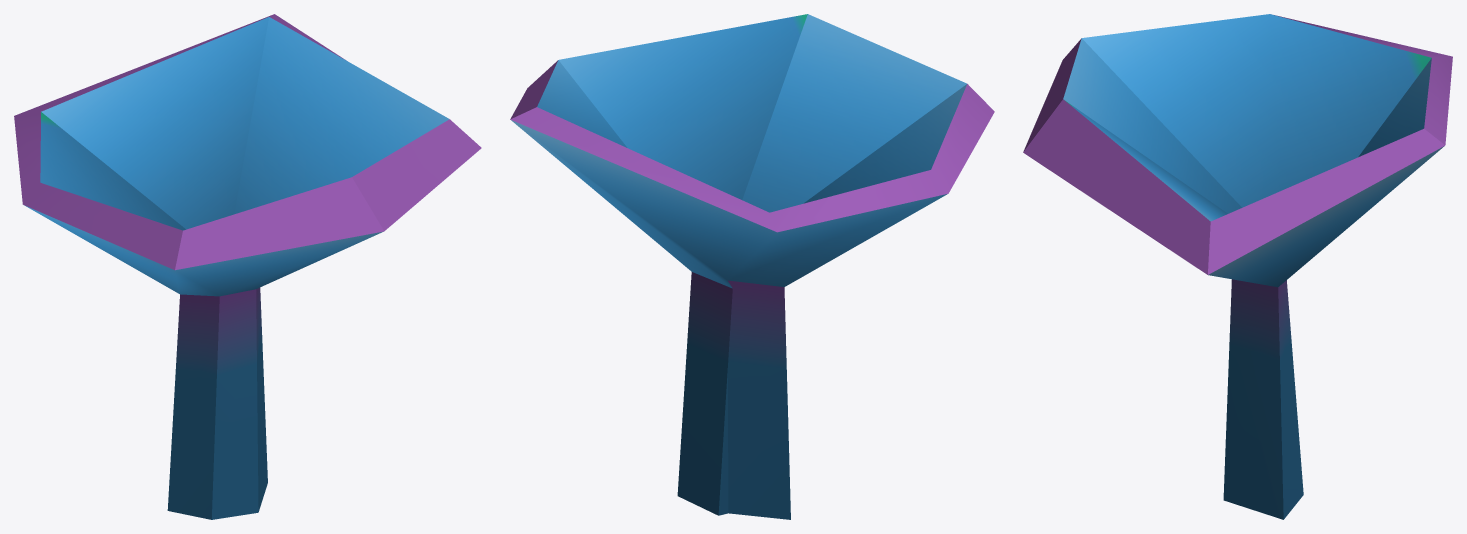
File: Mushroom_B_3.fbx
The picture shows the model from 3 angles, left to right: view 1: azimuth 30°, elevation 25°; view 2: azimuth 150°, elevation 25°; view 3: azimuth 270°, elevation 25°; orthographic projection. The views are drawn at different scales.
Parts seen in each view (by area): view 1: Mushroom_B_3; view 2: Mushroom_B_3; view 3: Mushroom_B_3.
Boxes of the visible parts, x1,y1,x2,y2 form: Mushroom_B_3: (14,14,481,519); Mushroom_B_3: (510,14,994,519); Mushroom_B_3: (1023,14,1452,519).
Size of the model in its own units: 10.14 by 9.05 by 8.28.
